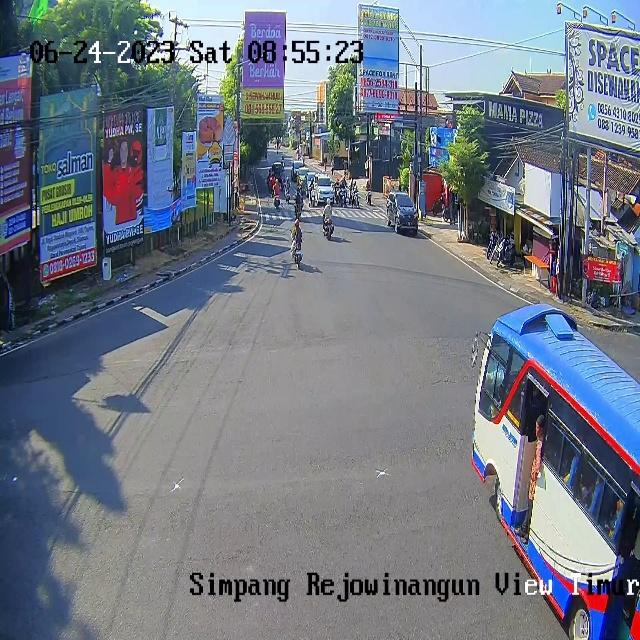bus: (290, 232, 304, 270), (322, 214, 334, 240), (365, 187, 372, 206), (339, 187, 346, 205), (295, 202, 302, 218), (353, 190, 359, 206), (274, 194, 280, 209), (284, 189, 290, 203)
car: (471, 302, 640, 640)
motorcycle: (386, 192, 418, 235), (313, 174, 334, 202), (303, 172, 317, 195), (297, 167, 309, 188)
